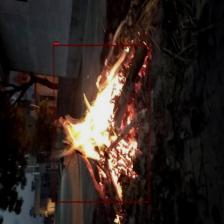fire: (54, 44, 150, 202)
